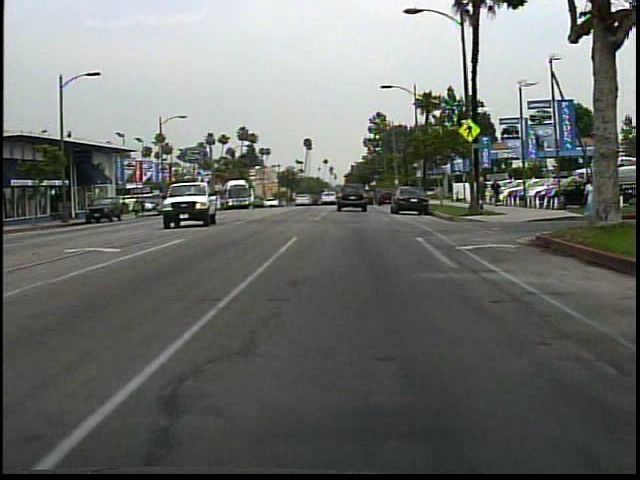person: (579, 172, 603, 229)
